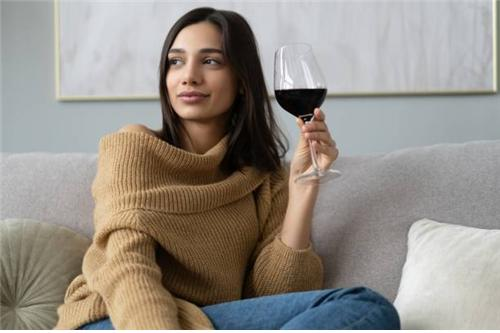alcohol: (275, 43, 342, 185)
